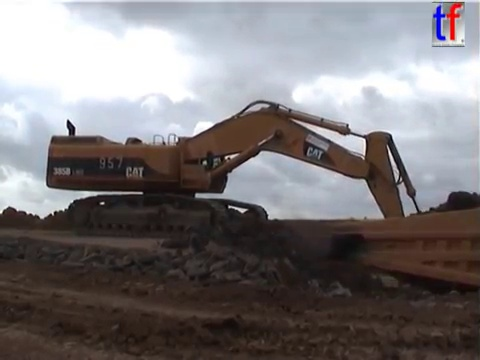excavator: (41, 97, 442, 304)
truck: (325, 202, 480, 299)
